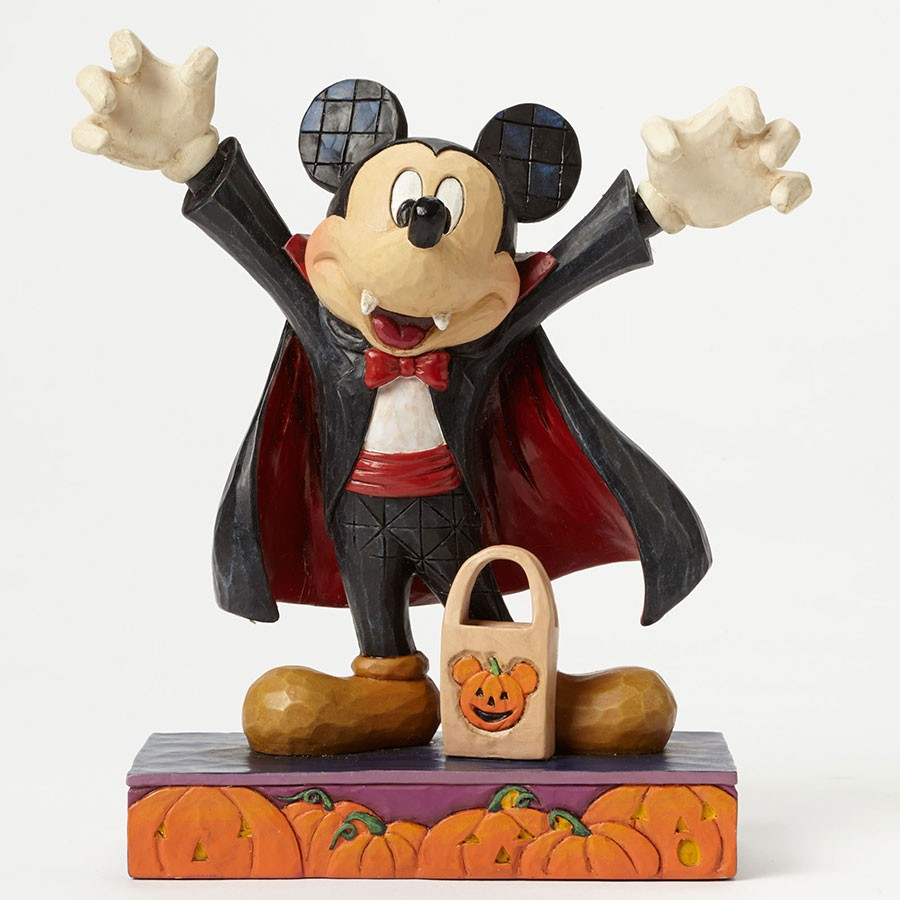Mickey: (295, 78, 586, 358)
